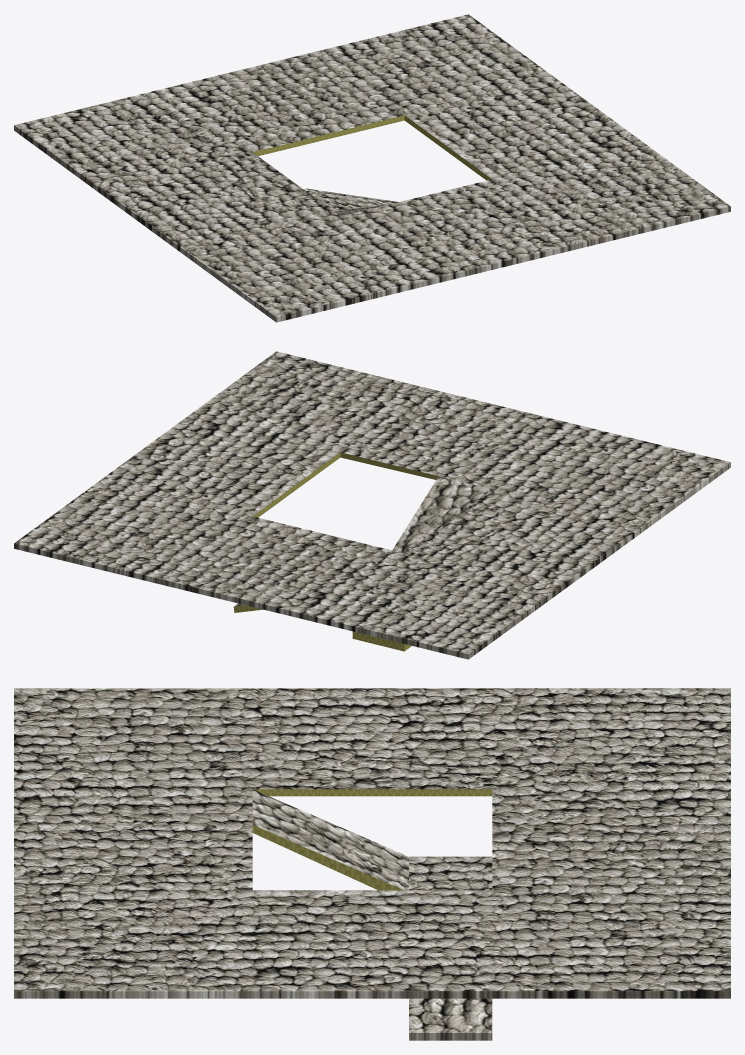
The model's file is floor2_525.fbx.
3 views of the same model, one above another, from view 1: azimuth 30°, elevation 25°; view 2: azimuth 150°, elevation 25°; view 3: azimuth 270°, elevation 25° (orthographic). The views are drawn at different scales.
Visible parts, largest first — view 1: Room525, Object001; view 2: Room525, Object002; view 3: Room525, Object002, Object001.
Boxes of the visible parts, x1=… form: Room525: x1=14, y1=14, x2=730, y2=322; Object001: x1=307, y1=188, x2=398, y2=210; Room525: x1=14, y1=351, x2=730, y2=659; Object002: x1=392, y1=476, x2=491, y2=553; Room525: x1=14, y1=688, x2=730, y2=998; Object002: x1=252, y1=789, x2=408, y2=890; Object001: x1=409, y1=998, x2=492, y2=1040.
Bounding box in the file's own units: 500 × 106 × 500.
3 materials, 2 textured.
